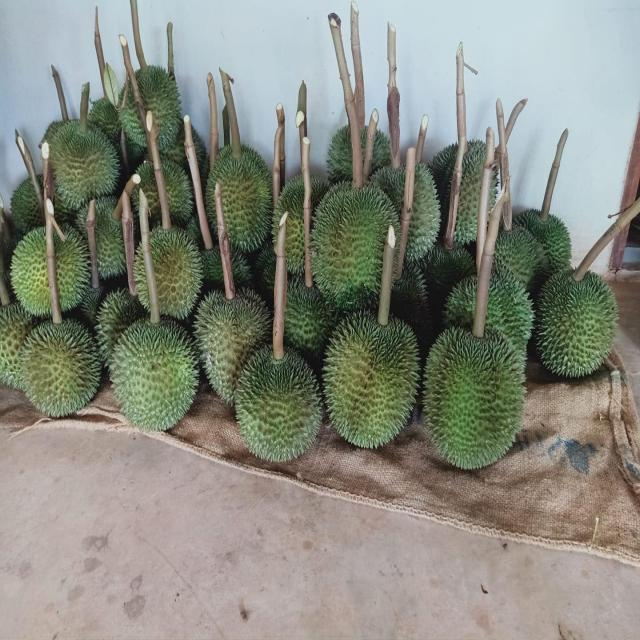immature: (424, 324, 526, 472), (325, 311, 422, 456), (311, 180, 406, 308), (108, 317, 200, 435), (196, 287, 284, 409), (533, 265, 622, 385), (236, 346, 324, 460), (9, 218, 92, 317), (205, 142, 276, 256), (23, 317, 103, 416), (47, 117, 125, 211), (133, 223, 204, 315)
